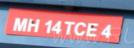1: (43, 18, 51, 33)
4: (100, 23, 112, 38), (51, 18, 61, 34)
C: (73, 20, 86, 36)
E: (85, 21, 98, 36)
H: (26, 17, 39, 32)
M: (11, 16, 27, 31)
T: (62, 19, 74, 34)
